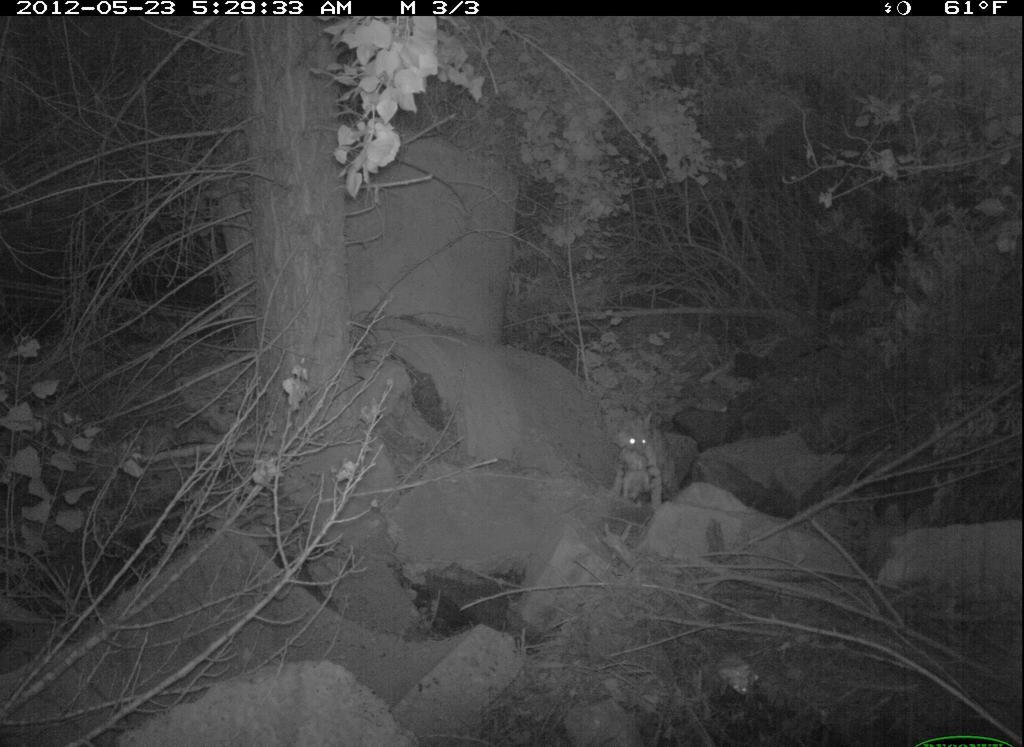bobcat: (610, 404, 703, 532)
